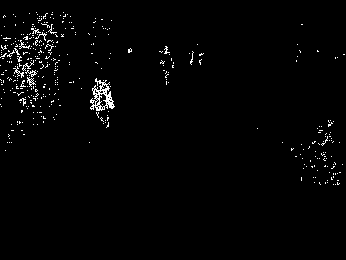person: (89, 78, 115, 130)
